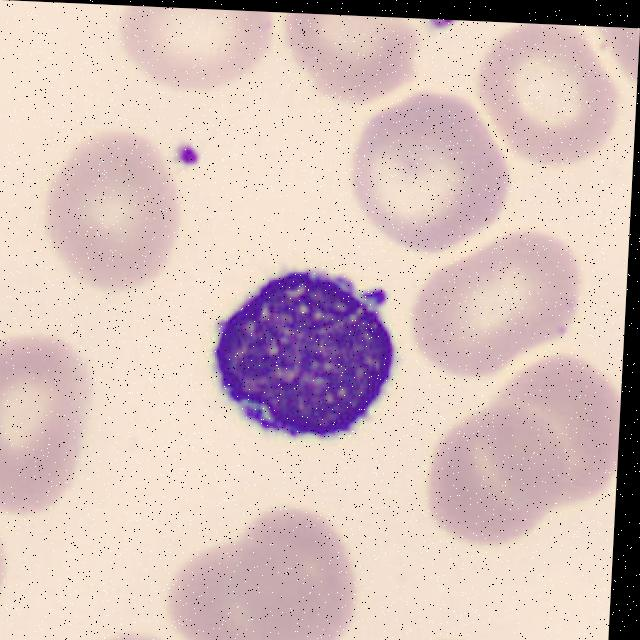lymphocyte: (208, 263, 404, 462)
rbc: (41, 132, 194, 284), (356, 106, 512, 255), (474, 23, 615, 165), (430, 410, 569, 547), (0, 326, 103, 505), (167, 517, 314, 640), (496, 363, 622, 500), (228, 508, 358, 640), (467, 230, 590, 360), (115, 5, 270, 100), (395, 245, 508, 368), (279, 13, 424, 103), (0, 508, 29, 636), (70, 628, 180, 640)
